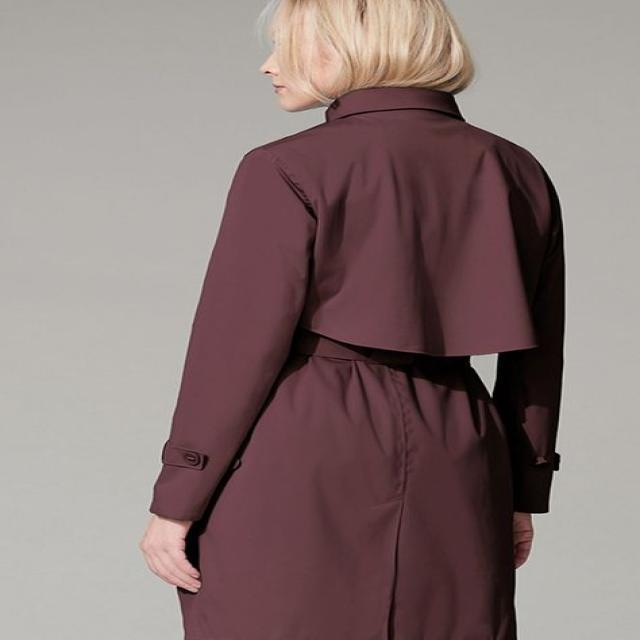coat: (142, 83, 566, 640)
